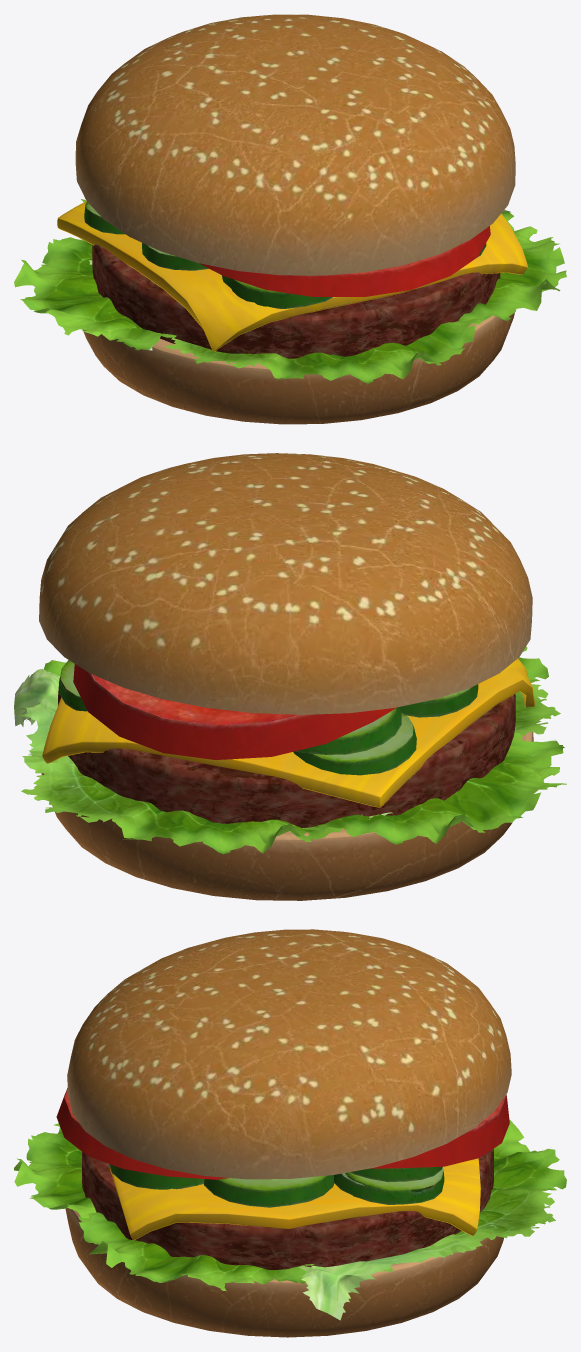
Rendered from burger.glb.
3 renders of one model, top to bottom at view 1: azimuth 30°, elevation 25°; view 2: azimuth 150°, elevation 25°; view 3: azimuth 270°, elevation 25°, orthographic. The views are drawn at different scales.
Parts seen in each view (by area): view 1: bun_top, bun_bottom, lettuce, patty, cheese, tomato, pickles; view 2: bun_top, lettuce, bun_bottom, patty, tomato, cheese, pickles; view 3: bun_top, lettuce, bun_bottom, patty, cheese, pickles, tomato.
Boxes of the visible parts, x1=… form: bun_top: x1=75, y1=14, x2=515, y2=275; bun_bottom: x1=83, y1=312, x2=514, y2=424; lettuce: x1=14, y1=199, x2=566, y2=383; patty: x1=92, y1=244, x2=500, y2=358; cheese: x1=57, y1=201, x2=527, y2=351; tomato: x1=199, y1=226, x2=490, y2=296; pickles: x1=84, y1=202, x2=486, y2=308; bun_top: x1=39, y1=453, x2=532, y2=714; lettuce: x1=14, y1=646, x2=566, y2=854; bun_bottom: x1=41, y1=732, x2=533, y2=900; patty: x1=58, y1=677, x2=515, y2=827; tomato: x1=73, y1=664, x2=396, y2=759; cheese: x1=42, y1=658, x2=534, y2=807; pickles: x1=59, y1=660, x2=478, y2=775; bun_top: x1=67, y1=929, x2=511, y2=1179; lettuce: x1=14, y1=1119, x2=566, y2=1320; bun_bottom: x1=65, y1=1208, x2=503, y2=1337; patty: x1=82, y1=1149, x2=493, y2=1269; cheese: x1=109, y1=1158, x2=480, y2=1240; pickles: x1=109, y1=1164, x2=444, y2=1207; tomato: x1=56, y1=1087, x2=509, y2=1179.
Bounding box in the file's own units: 0.1186 × 0.0689 × 0.12.
Materials: 3 (3 with a texture image).
